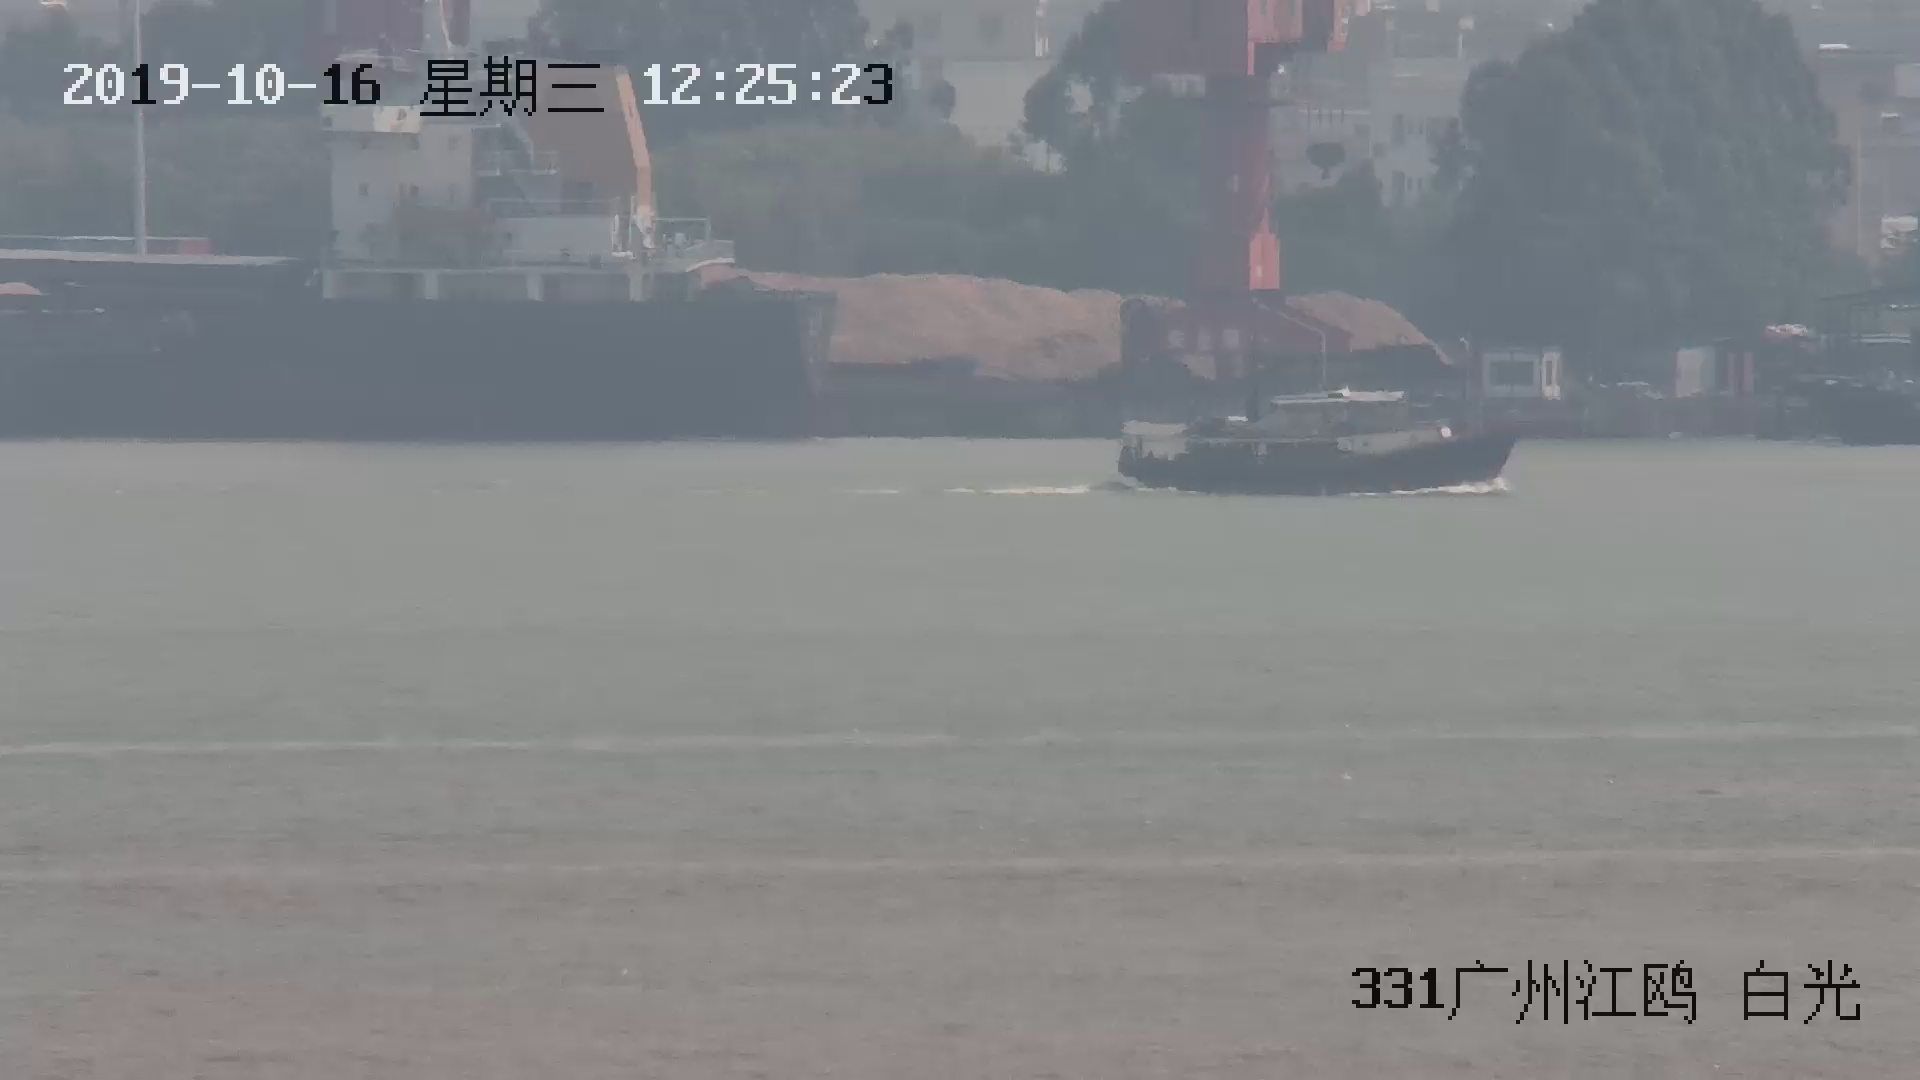ship: (1114, 369, 1514, 498)
